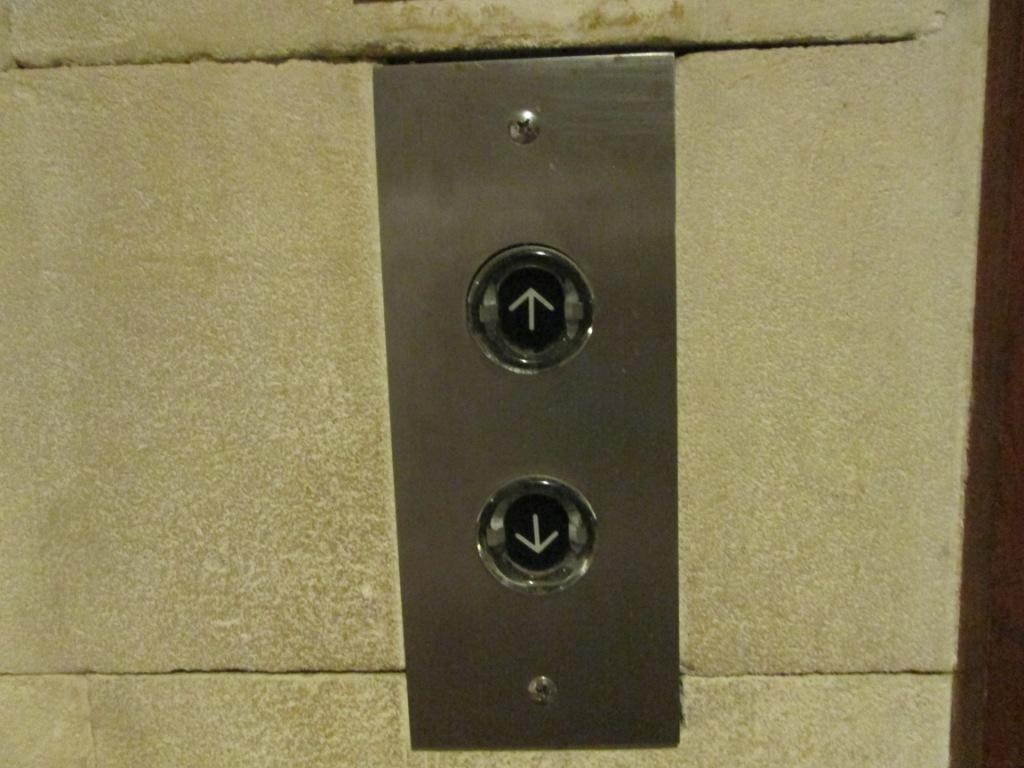down: (474, 474, 601, 597)
up: (464, 242, 599, 375)
